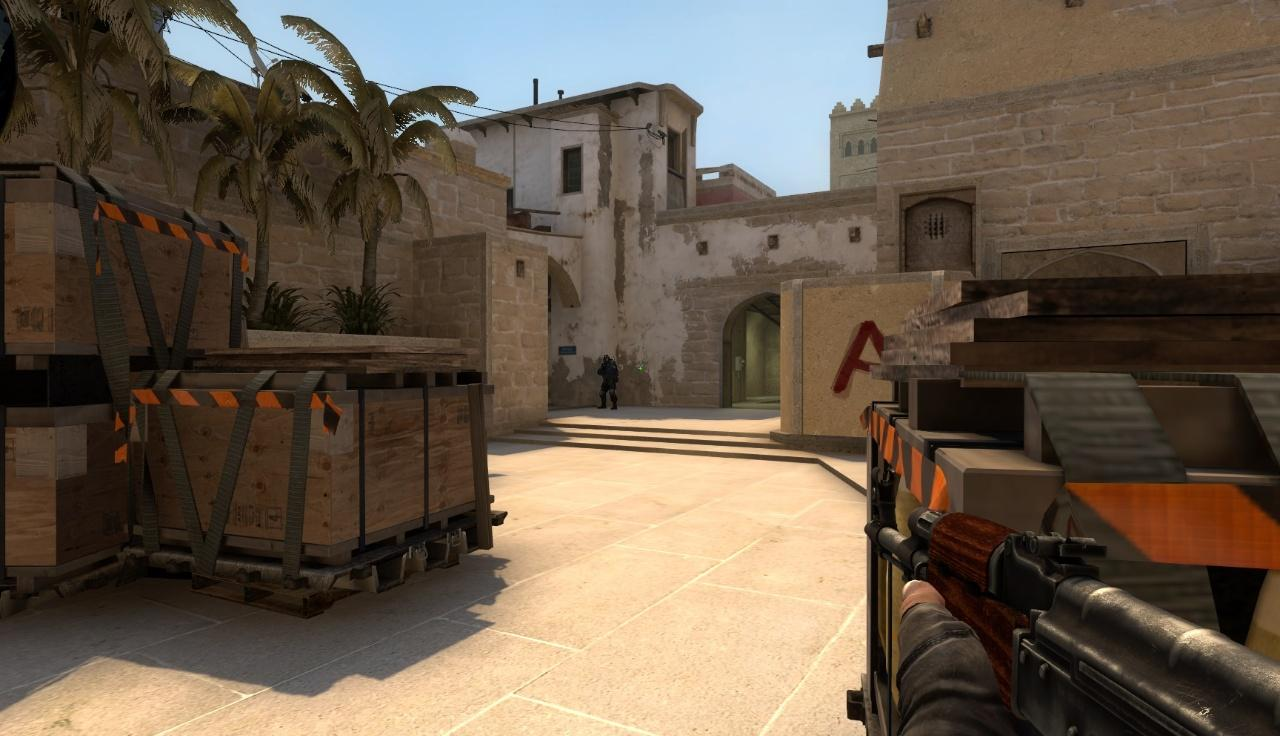ct: (597, 355, 619, 411)
cthead: (603, 355, 610, 364)
rifle: (864, 486, 1280, 736)
